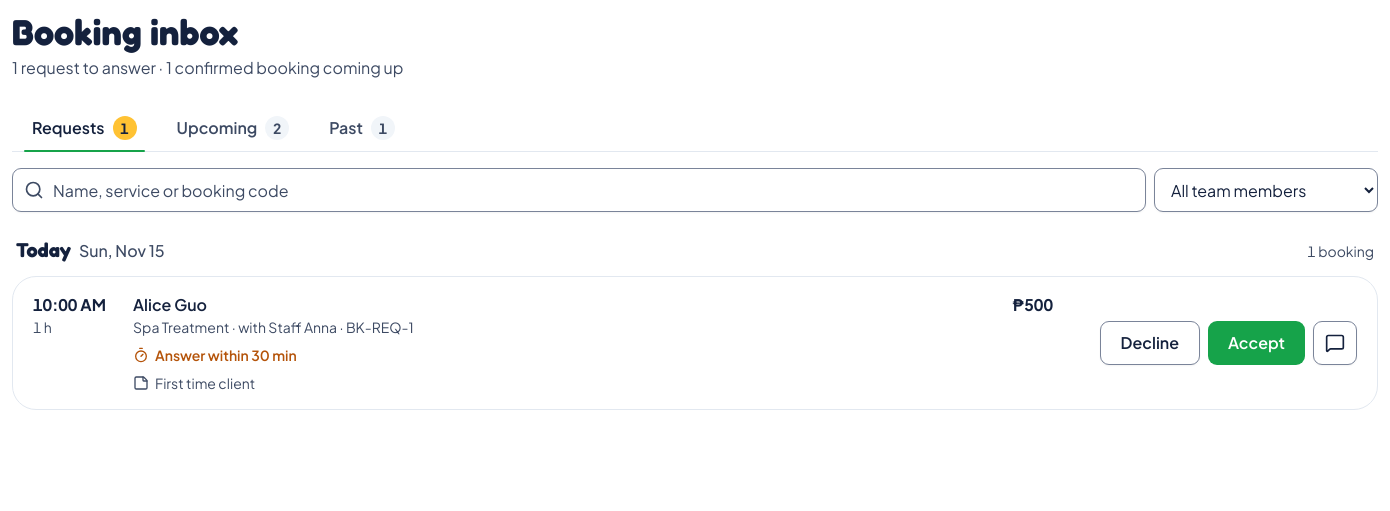
Test: BookingInbox › searches across views and points to the view with matches
Type "color" into the search field named "Search bookings" at (579, 190), box [12,168,1146,212]
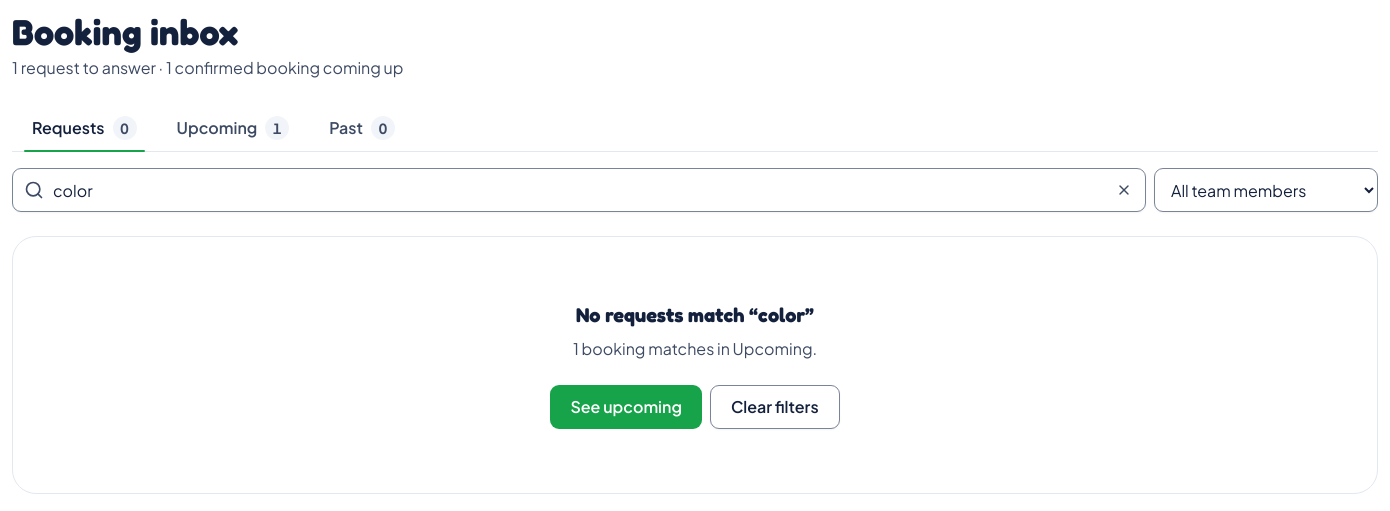
Now the tab "Requests 0" is shown, box [12,104,157,152]
Now the tab "Upcoming 1" is shown, box [157,104,309,152]
Now the heading "No requests match “color”" is shown, box [576,303,814,327]
Click the button "See upcoming" at (626, 407), box [550,385,702,429]
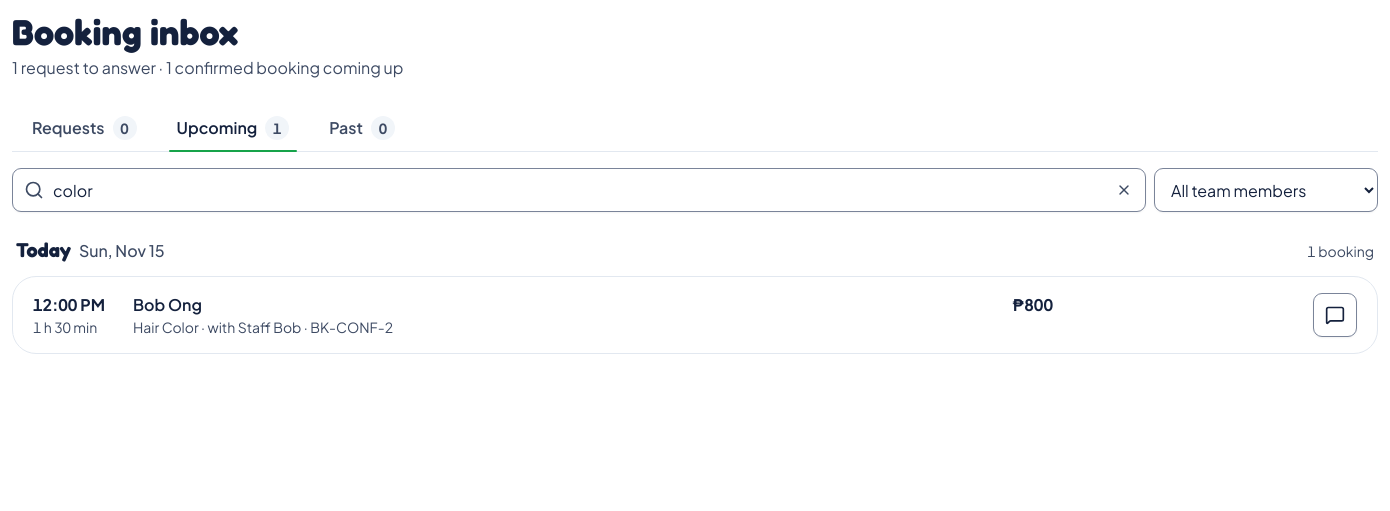
Now the text "Bob Ong" is shown, box [133,293,202,317]
